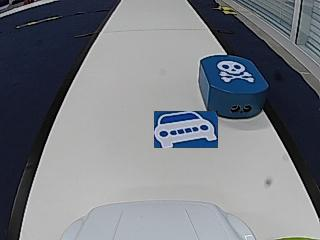danger: (218, 59, 252, 83)
